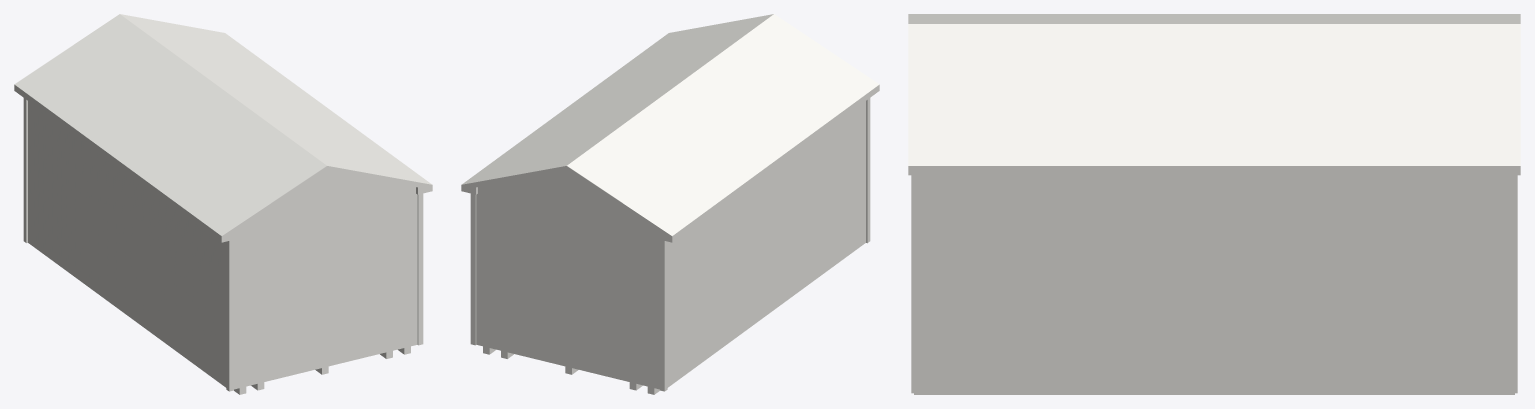
File: 8 wide A-frame_7ft_10x18.obj
3 views of the same model, side by side, from view 1: azimuth 30°, elevation 25°; view 2: azimuth 150°, elevation 25°; view 3: azimuth 270°, elevation 25° (orthographic). The views are drawn at different scales.
Parts seen in each view (by area): view 1: Shed, Roof, Sides, Trim, Floor; view 2: Shed, Roof, Sides, Trim, Floor; view 3: Shed, Roof, Sides, Trim, Floor.
Part boxes in pixels (<box>): Shed: <box>28,101,417,389</box>; Roof: <box>14,14,431,235</box>; Sides: <box>14,84,432,242</box>; Trim: <box>23,98,423,391</box>; Floor: <box>234,346,410,394</box>; Shed: <box>476,101,865,389</box>; Roof: <box>462,14,879,235</box>; Sides: <box>461,84,879,242</box>; Trim: <box>470,98,870,391</box>; Floor: <box>483,346,659,394</box>; Shed: <box>919,175,1509,391</box>; Roof: <box>908,14,1520,165</box>; Sides: <box>908,166,1520,175</box>; Trim: <box>911,175,1517,393</box>; Floor: <box>914,392,1514,394</box>.
Bounding box in the file's own units: 3.28 × 3.12 × 5.59.
